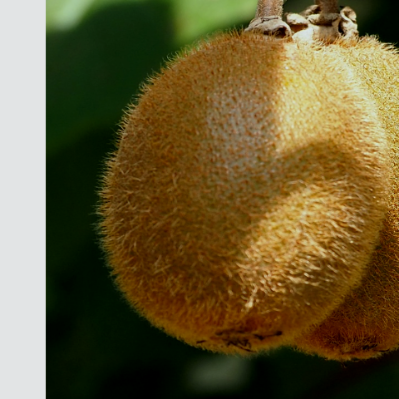kiwi: (96, 7, 389, 381)
